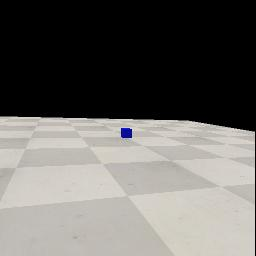box: (121, 128, 132, 138)
